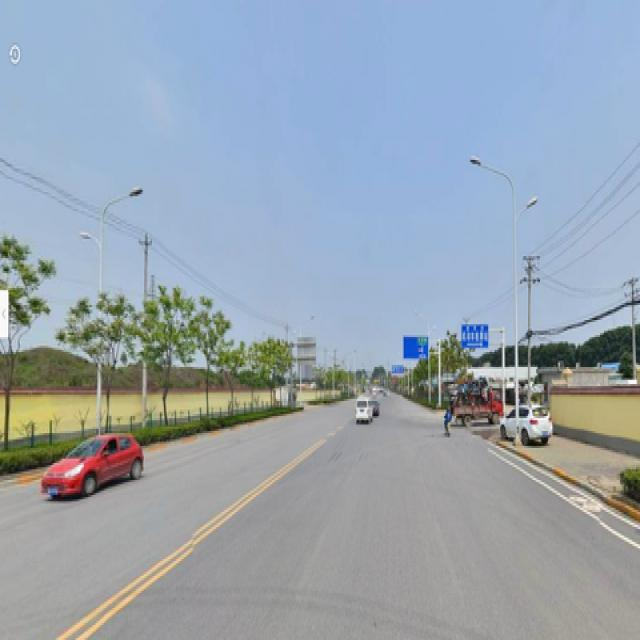koel: (8, 241, 48, 399), (88, 297, 129, 420), (144, 290, 179, 405), (192, 307, 215, 395)
